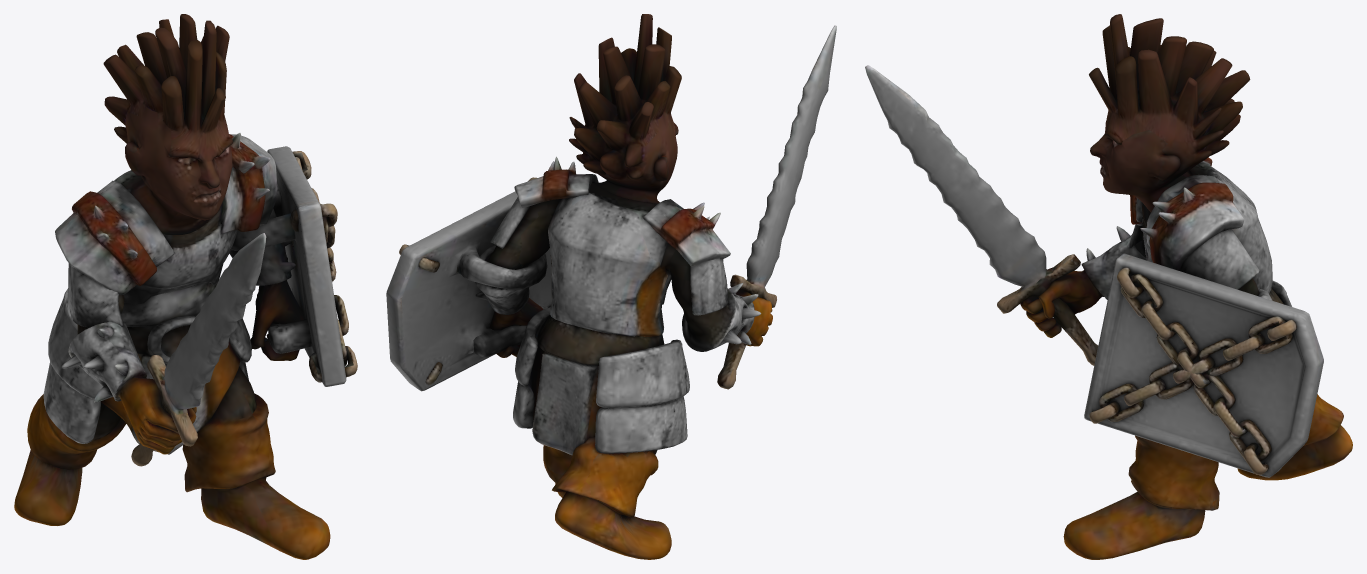
Rendered from MZ4250 - DuergarStoneGuard_Alt2.glb.
The picture shows the model from 3 angles, left to right: view 1: azimuth 30°, elevation 25°; view 2: azimuth 150°, elevation 25°; view 3: azimuth 270°, elevation 25°; orthographic projection. The views are drawn at different scales.
Parts seen in each view (by area): view 1: Duergar Stone Guard.001; view 2: Duergar Stone Guard.001; view 3: Duergar Stone Guard.001.
Part boxes in pixels (bbox=[...]): Duergar Stone Guard.001: bbox=[14, 14, 357, 559]; Duergar Stone Guard.001: bbox=[386, 14, 836, 559]; Duergar Stone Guard.001: bbox=[865, 14, 1352, 559].
Size of the model in its own units: 17.63 by 27.7 by 24.49.
Materials: 1 (1 with a texture image).
